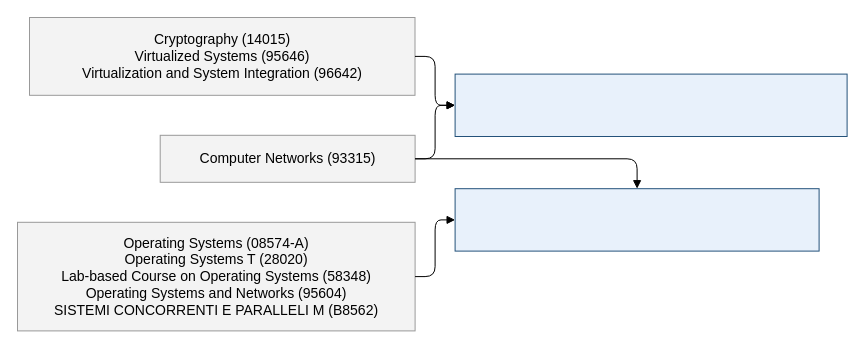
The diagram is 865 pixels wide and 349 high, and some of its shapes have lost their labels. The centre of each missing label's shape, as x and y in pixels:
"Advanced Network Services and Communication 6 ECTS" belongs at (650,104).
"Systems and Network Services Foundations 3 ECTS" belongs at (636,219).
